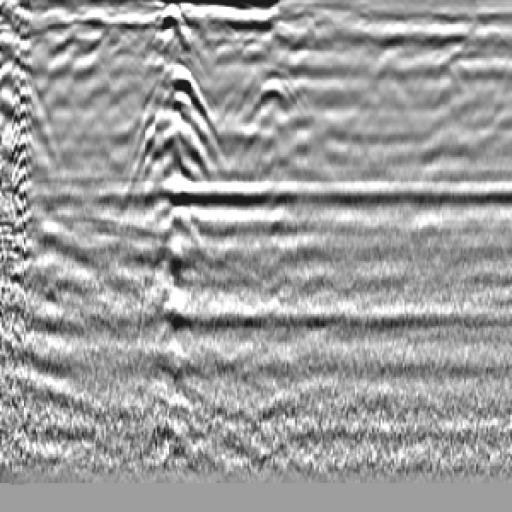metalic: (126, 15, 232, 267)
nonmetalic: (1, 52, 71, 211), (236, 61, 332, 174)
